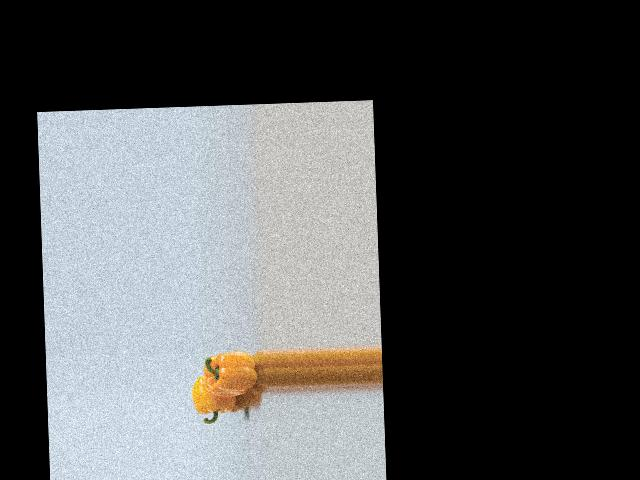bell_pepper: (191, 373, 244, 423)
